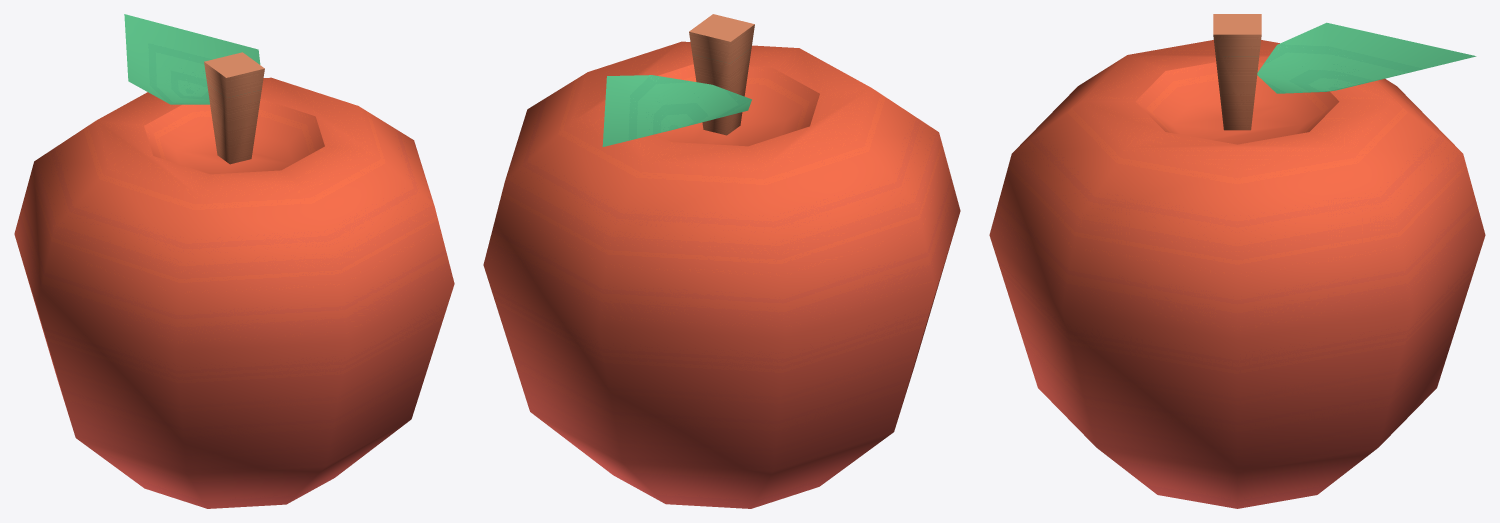
Rendered from apple.glb.
3 renders of one model, left to right at view 1: azimuth 30°, elevation 25°; view 2: azimuth 150°, elevation 25°; view 3: azimuth 270°, elevation 25°, orthographic. The views are drawn at different scales.
Visible parts, largest first — view 1: apple; view 2: apple; view 3: apple.
Boxes of the visible parts, bbox=[...] form: apple: bbox=[14, 14, 454, 508]; apple: bbox=[483, 14, 960, 508]; apple: bbox=[989, 14, 1485, 508].
Bounding box in the file's own units: 0.1963 × 0.1908 × 0.1963.
Materials: 1 (1 with a texture image).
